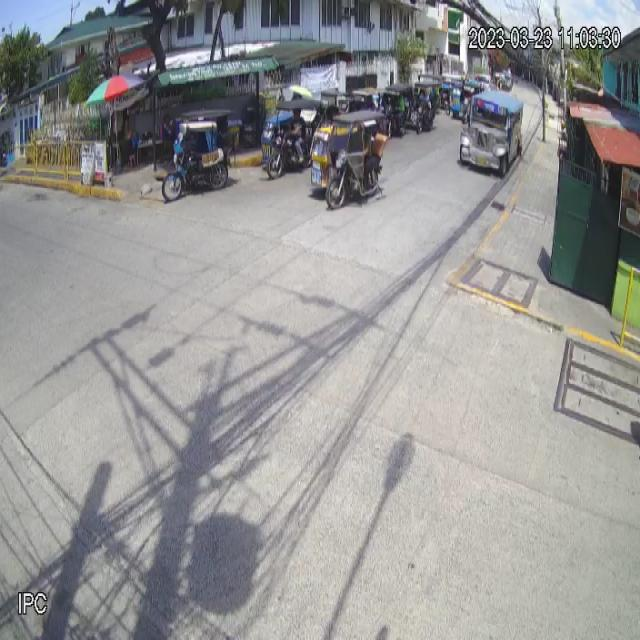Jeep: (459, 90, 524, 179)
Tricycle: (311, 110, 390, 210)
